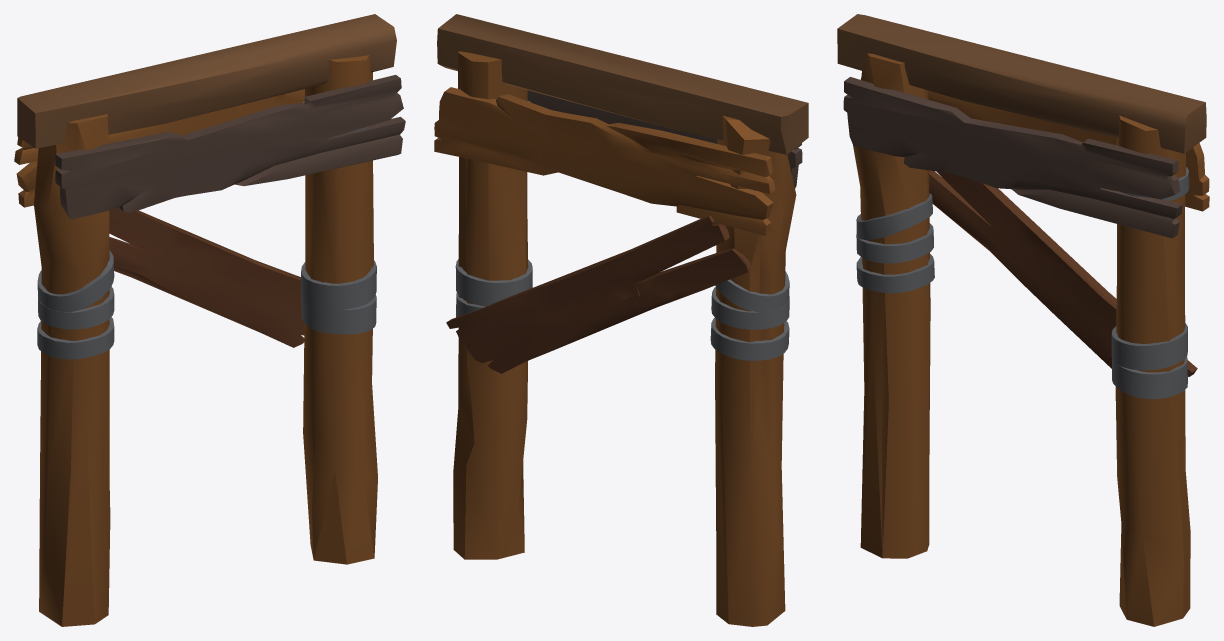
The model's file is Rough Wooden Bridge_support 1.fbx.
3 views of the same model, side by side, from view 1: azimuth 30°, elevation 25°; view 2: azimuth 150°, elevation 25°; view 3: azimuth 330°, elevation 25° (orthographic).
Parts seen in each view (by area): view 1: Rough Wooden Bridge_baked; view 2: Rough Wooden Bridge_baked; view 3: Rough Wooden Bridge_baked.
Part boxes in pixels (left/top/right/bottom): Rough Wooden Bridge_baked: left=14, top=14, right=405, bottom=626; Rough Wooden Bridge_baked: left=434, top=14, right=808, bottom=626; Rough Wooden Bridge_baked: left=837, top=14, right=1209, bottom=626.
Size of the model in its own units: 280 by 388 by 61.19.
